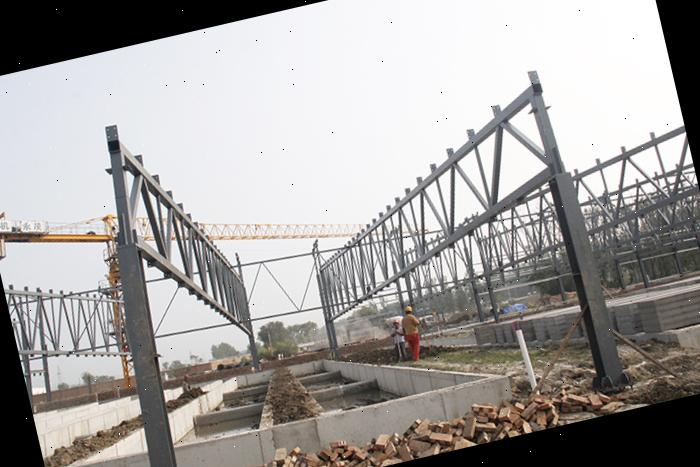helmet: (402, 304, 414, 314), (390, 316, 400, 326)
no_wear: (401, 312, 421, 338), (389, 324, 407, 348)
